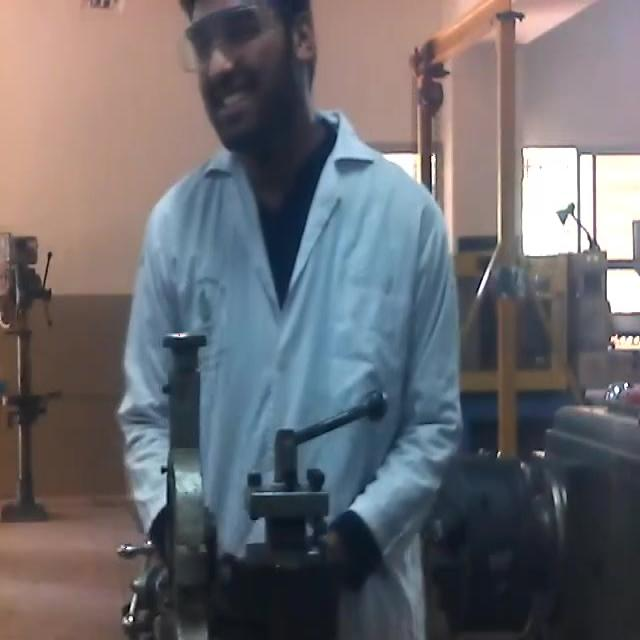googles: (171, 0, 284, 77)
labcoat: (121, 106, 467, 640)
